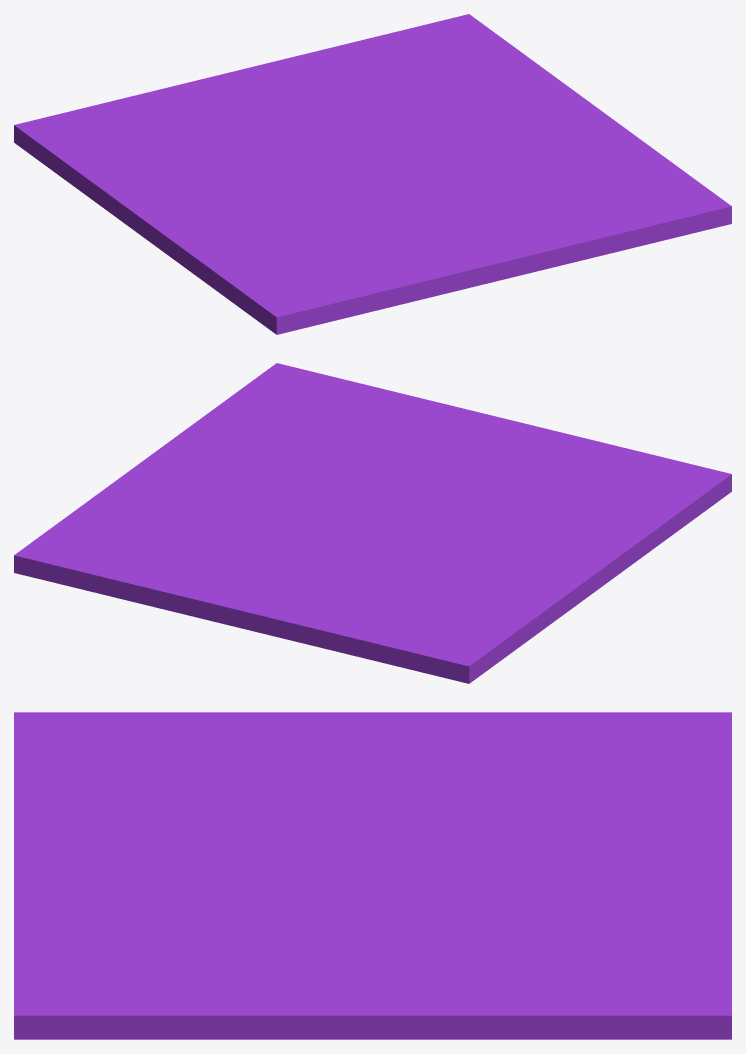
Rendered from Platform_34_chunks.fbx.
3 renders of one model, top to bottom at view 1: azimuth 30°, elevation 25°; view 2: azimuth 150°, elevation 25°; view 3: azimuth 270°, elevation 25°, orthographic. The views are drawn at different scales.
Parts seen in each view (by area): view 1: Platform_34_6, Platform_34_1, Platform_34_9, Platform_34_2, Platform_34_11, Platform_34_3, Platform_34_0, Platform_34_5, Platform_34_8, Platform_34_4, Platform_34_15, Platform_34_14 (+2 smaller); view 2: Platform_34_6, Platform_34_1, Platform_34_9, Platform_34_11, Platform_34_2, Platform_34_5, Platform_34_8, Platform_34_3, Platform_34_15, Platform_34_0, Platform_34_4, Platform_34_14 (+3 smaller); view 3: Platform_34_6, Platform_34_9, Platform_34_1, Platform_34_11, Platform_34_2, Platform_34_14, Platform_34_0, Platform_34_15, Platform_34_8, Platform_34_3, Platform_34_5, Platform_34_4 (+2 smaller).
Boxes of the visible parts, box(x1,y1,x2,y2) form: Platform_34_6: box(14, 60, 300, 156); Platform_34_1: box(178, 230, 401, 334); Platform_34_9: box(356, 118, 699, 183); Platform_34_2: box(380, 168, 647, 266); Platform_34_11: box(278, 32, 448, 149); Platform_34_3: box(361, 223, 586, 304); Platform_34_0: box(448, 173, 731, 255); Platform_34_5: box(25, 143, 221, 253); Platform_34_8: box(149, 150, 347, 266); Platform_34_4: box(207, 164, 402, 233); Platform_34_15: box(393, 14, 537, 82); Platform_34_14: box(491, 64, 655, 150); Platform_34_6: box(199, 566, 493, 683); Platform_34_1: box(511, 449, 731, 559); Platform_34_9: box(201, 386, 372, 528); Platform_34_11: box(90, 510, 348, 617); Platform_34_2: box(352, 383, 486, 502); Platform_34_5: box(429, 567, 620, 675); Platform_34_8: box(401, 520, 638, 574); Platform_34_3: box(422, 398, 629, 486); Platform_34_15: box(14, 505, 162, 587); Platform_34_0: box(246, 363, 360, 483); Platform_34_4: box(364, 483, 594, 541); Platform_34_14: box(83, 418, 224, 512); Platform_34_6: box(497, 712, 731, 888); Platform_34_9: box(99, 862, 454, 1039); Platform_34_1: box(14, 712, 296, 813); Platform_34_11: box(429, 866, 731, 964); Platform_34_2: box(14, 828, 344, 959); Platform_34_14: box(221, 963, 550, 1039); Platform_34_0: box(14, 895, 299, 1039); Platform_34_15: box(525, 950, 731, 1039); Platform_34_8: box(283, 712, 501, 846); Platform_34_3: box(14, 780, 207, 918); Platform_34_5: box(362, 712, 664, 794); Platform_34_4: box(200, 735, 378, 876).
Size of the model in its own units: 810 by 29.87 by 810.
